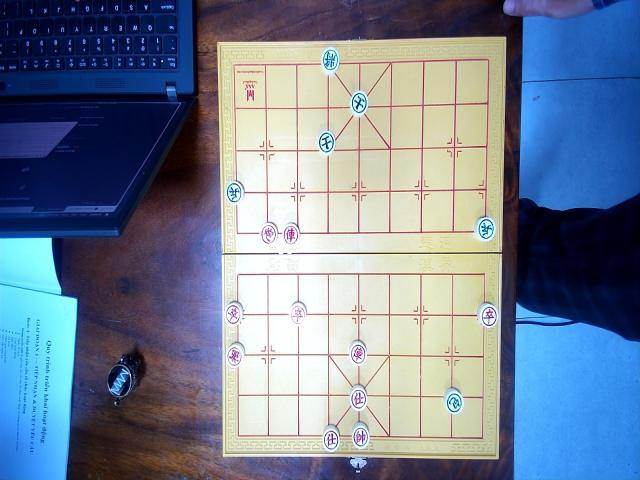piece: (474, 216, 496, 243), (442, 387, 462, 415), (350, 422, 370, 449), (477, 301, 497, 328), (319, 46, 339, 73), (322, 425, 340, 452), (349, 384, 367, 411), (350, 89, 368, 116), (226, 342, 245, 367), (348, 340, 366, 366), (225, 301, 243, 326), (225, 180, 243, 204), (317, 131, 335, 155), (290, 300, 306, 325), (260, 222, 276, 244), (283, 222, 299, 244)
